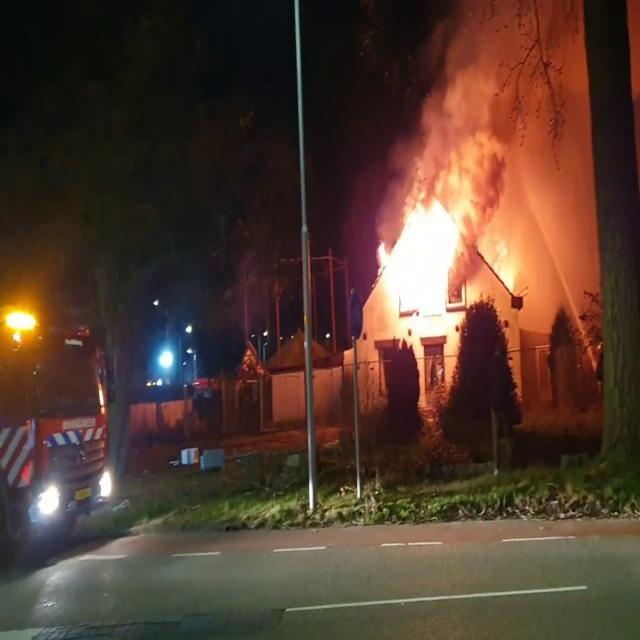Fire: (372, 139, 530, 353)
Smoke: (416, 0, 617, 276)
